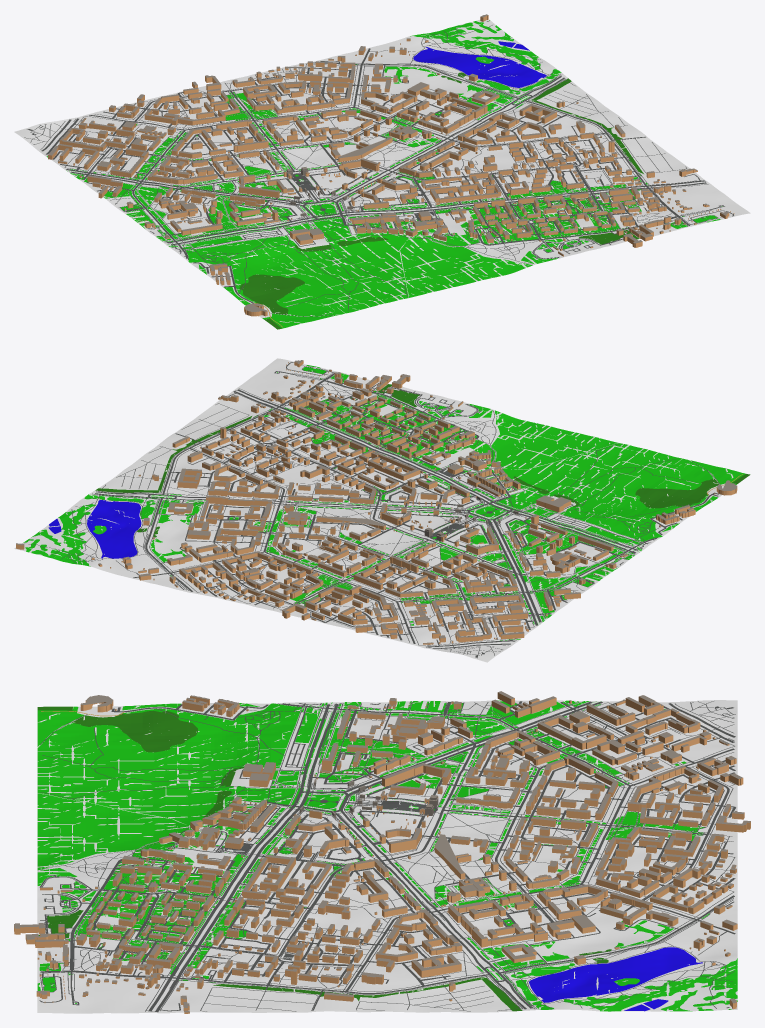
The model's file is nowahuta.fbx.
3 views of the same model, one above another, from view 1: azimuth 30°, elevation 25°; view 2: azimuth 150°, elevation 25°; view 3: azimuth 270°, elevation 25° (orthographic). The views are drawn at different scales.
Visible parts, largest first — view 1: Terrain, map_3.osm_buildings, map_3.osm_vegetation, map_3.osm_paths_footway, map_3.osm_roads_residential, map_3.osm_forest, map_3.osm_water, map_3.osm_roads_tertiary, map_3.osm_roads_service, map_3.osm_roads_primary, map_3.osm_roads_secondary; view 2: Terrain, map_3.osm_buildings, map_3.osm_vegetation, map_3.osm_paths_footway, map_3.osm_roads_residential, map_3.osm_forest, map_3.osm_water, map_3.osm_roads_tertiary, map_3.osm_roads_service, map_3.osm_roads_primary, map_3.osm_roads_secondary; view 3: Terrain, map_3.osm_buildings, map_3.osm_vegetation, map_3.osm_paths_footway, map_3.osm_roads_residential, map_3.osm_forest, map_3.osm_water, map_3.osm_roads_tertiary, map_3.osm_roads_service, map_3.osm_roads_primary, map_3.osm_roads_secondary.
Boxes of the visible parts, x1,y1,x2,y2 form: Terrain: (14,19,750,329); map_3.osm_buildings: (48,14,734,316); map_3.osm_vegetation: (47,20,722,328); map_3.osm_paths_footway: (24,25,720,316); map_3.osm_roads_residential: (28,48,677,303); map_3.osm_forest: (239,72,643,329); map_3.osm_water: (413,41,546,87); map_3.osm_roads_tertiary: (89,62,689,225); map_3.osm_roads_service: (75,21,733,258); map_3.osm_roads_primary: (66,169,705,219); map_3.osm_roads_secondary: (41,118,319,245); Terrain: (14,358,739,662); map_3.osm_buildings: (16,360,737,644); map_3.osm_vegetation: (23,365,745,640); map_3.osm_paths_footway: (24,365,719,658); map_3.osm_roads_residential: (133,380,718,657); map_3.osm_forest: (95,384,750,537); map_3.osm_water: (48,500,141,558); map_3.osm_roads_tertiary: (95,373,520,643); map_3.osm_roads_service: (99,362,654,645); map_3.osm_roads_primary: (233,389,541,625); map_3.osm_roads_secondary: (426,508,638,648); Terrain: (37,700,737,1013); map_3.osm_buildings: (14,691,750,1013); map_3.osm_vegetation: (37,700,737,1011); map_3.osm_paths_footway: (40,701,735,1011); map_3.osm_roads_residential: (70,701,735,991); map_3.osm_forest: (37,706,611,1011); map_3.osm_water: (529,947,702,1011); map_3.osm_roads_tertiary: (40,743,734,1009); map_3.osm_roads_service: (39,703,733,1011); map_3.osm_roads_primary: (148,701,602,1012); map_3.osm_roads_secondary: (299,703,735,793).
Size of the model in its own units: 196966 by 5356 by 195246.
